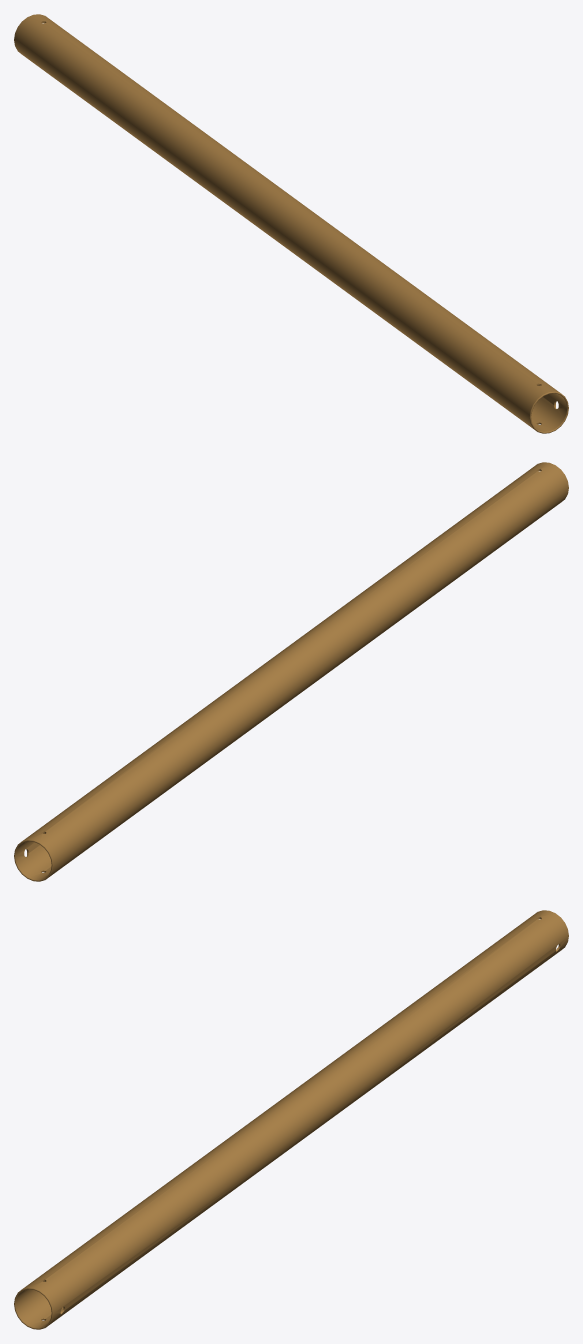
The model's file is table parts_16.fbx.
The picture shows the model from 3 angles, top to bottom: view 1: azimuth 30°, elevation 25°; view 2: azimuth 150°, elevation 25°; view 3: azimuth 330°, elevation 25°; orthographic projection.
Parts seen in each view (by area): view 1: table_frame_bar; view 2: table_frame_bar; view 3: table_frame_bar.
Boxes of the visible parts, x1,y1,x2,y2 form: table_frame_bar: (14, 14, 568, 433); table_frame_bar: (14, 462, 568, 881); table_frame_bar: (14, 910, 568, 1329).
Size of the model in its own units: 0.6929 by 0.6929 by 15.75.
